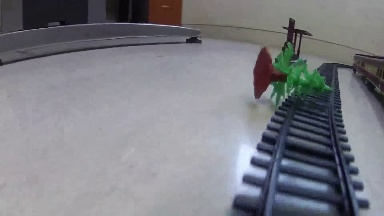tree: (253, 42, 333, 105)
